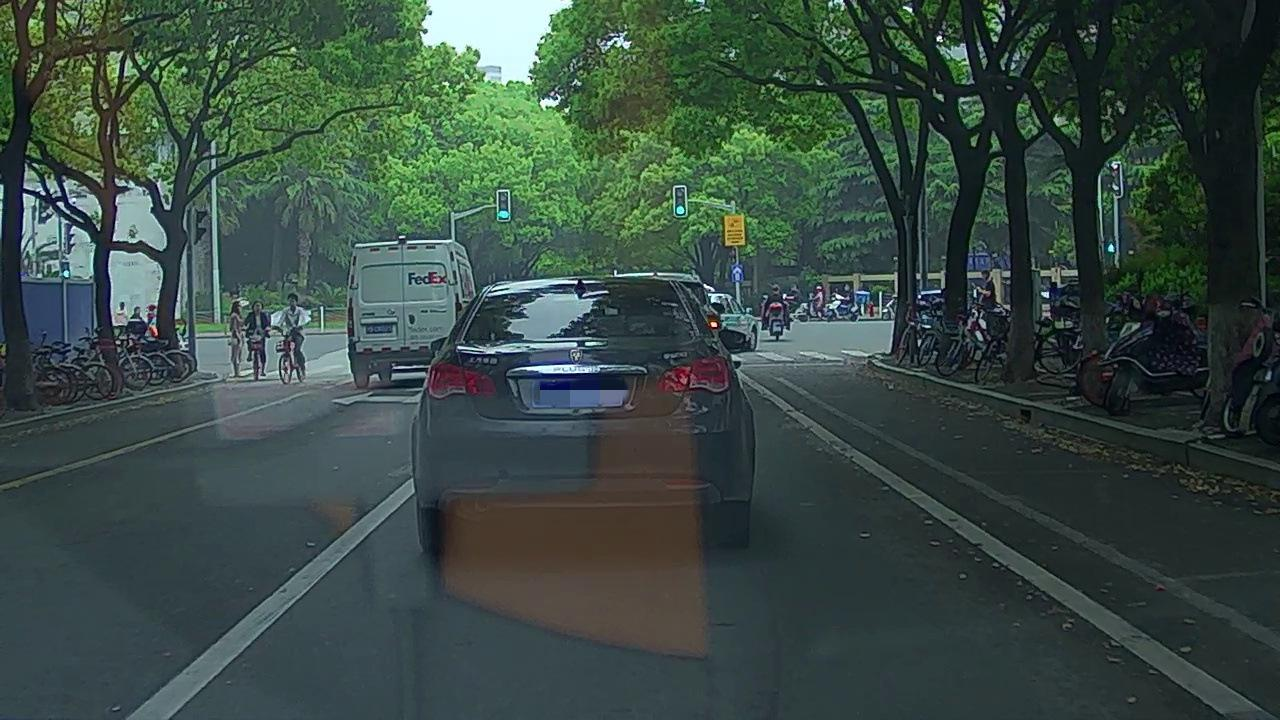traffic_light: (672, 186, 688, 216), (497, 192, 510, 220)
